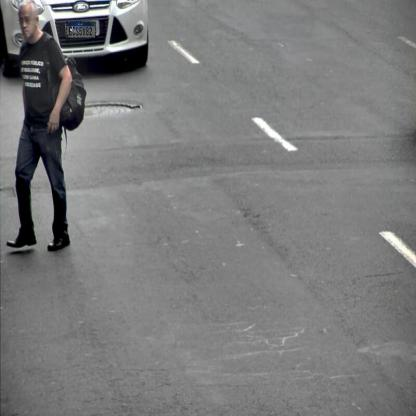PlacaM: (66, 22, 96, 38)
